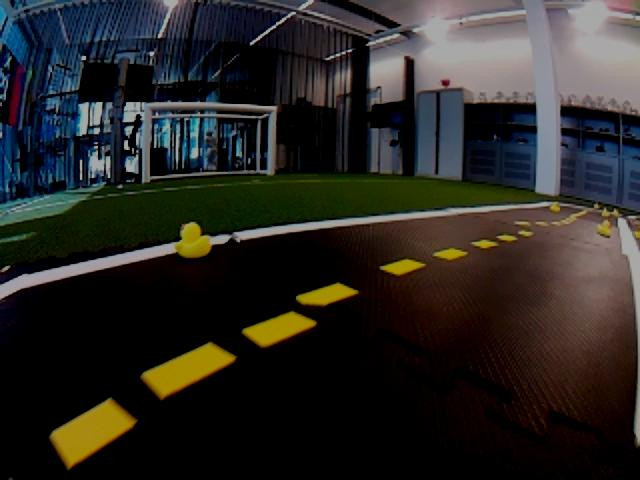Duckies: (176, 223, 212, 258), (597, 220, 612, 235), (601, 208, 610, 217), (550, 203, 560, 211), (611, 208, 619, 215), (593, 202, 599, 209)
